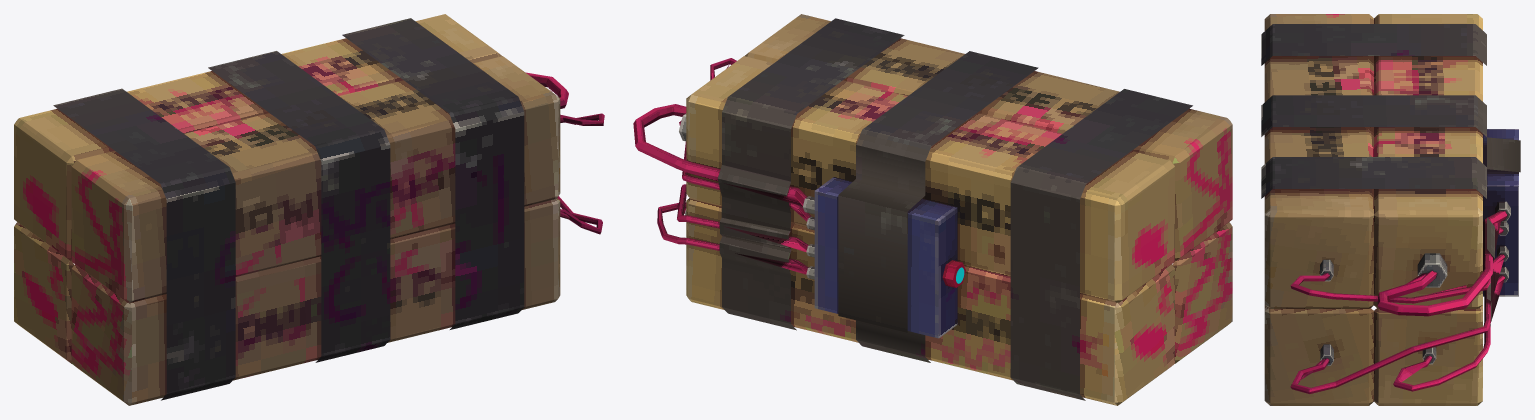
The model's file is item_c4_explosive.glb.
The picture shows the model from 3 angles, left to right: view 1: azimuth 30°, elevation 25°; view 2: azimuth 150°, elevation 25°; view 3: azimuth 270°, elevation 25°; orthographic projection. The views are drawn at different scales.
Visible parts, largest first — view 1: pCylinder60; view 2: pCylinder60; view 3: pCylinder60.
Part boxes in pixels (box(x1,y1,x2,y2)): pCylinder60: box(14, 14, 604, 405); pCylinder60: box(633, 14, 1232, 405); pCylinder60: box(1261, 14, 1520, 405).
Bounding box in the file's own units: 0.3518 × 0.1413 × 0.1624.
2 materials, 1 textured.
